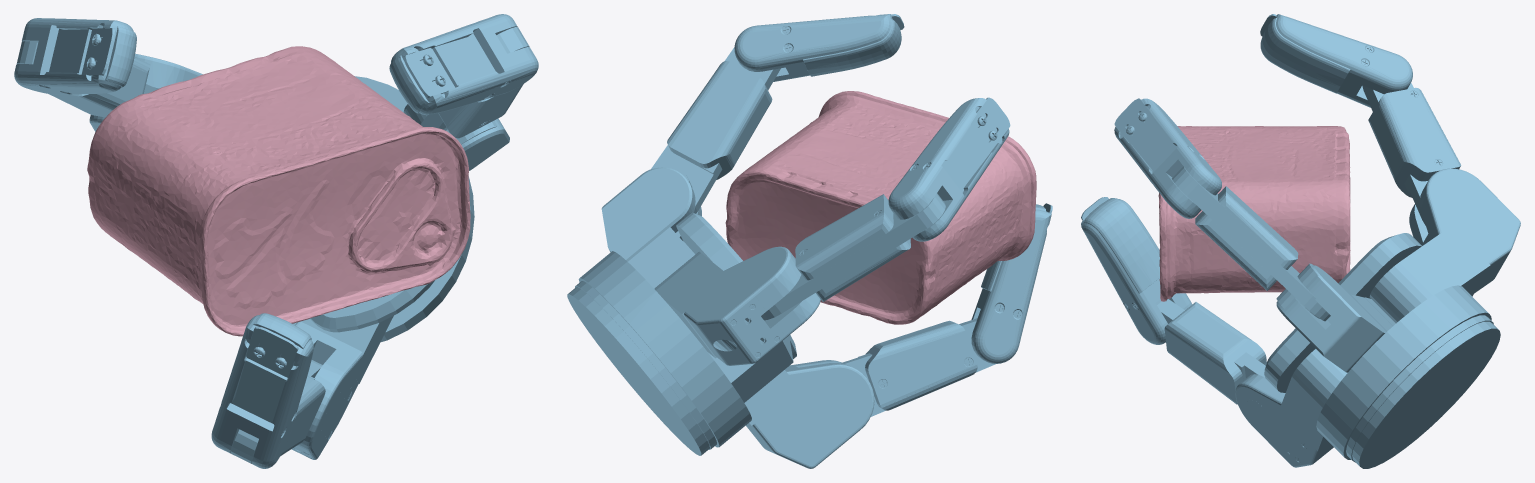
3 views of the same model, side by side, from view 1: azimuth 30°, elevation 25°; view 2: azimuth 150°, elevation 25°; view 3: azimuth 270°, elevation 25° (orthographic). The views are drawn at different scales.
Visible parts, largest first — view 1: potted_meat_can.stl, world; view 2: world, potted_meat_can.stl; view 3: world, potted_meat_can.stl.
Boxes of the visible parts, x1,y1,x2,y2 form: potted_meat_can.stl: (87, 46, 470, 336); world: (14, 14, 538, 468); world: (567, 14, 1052, 468); potted_meat_can.stl: (725, 91, 1036, 324); world: (1081, 14, 1520, 468); potted_meat_can.stl: (1158, 126, 1350, 301).
Size of the model in its own units: 0.172 by 0.18 by 0.1915.
